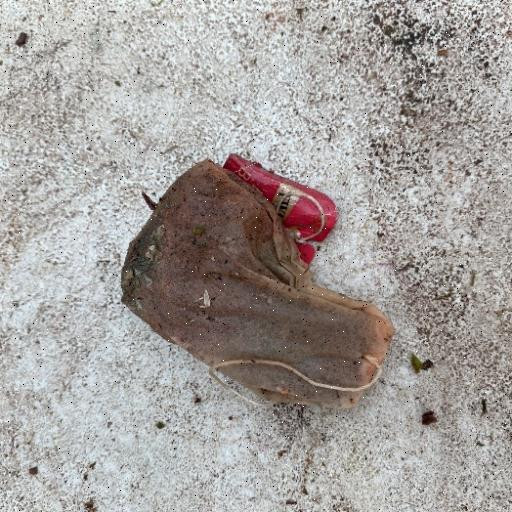Waste: (118, 154, 394, 412)
